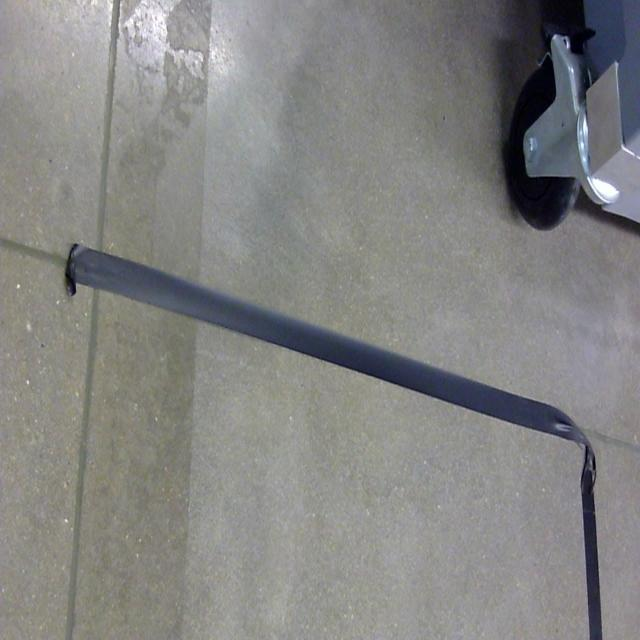tape: (53, 207, 618, 640)
